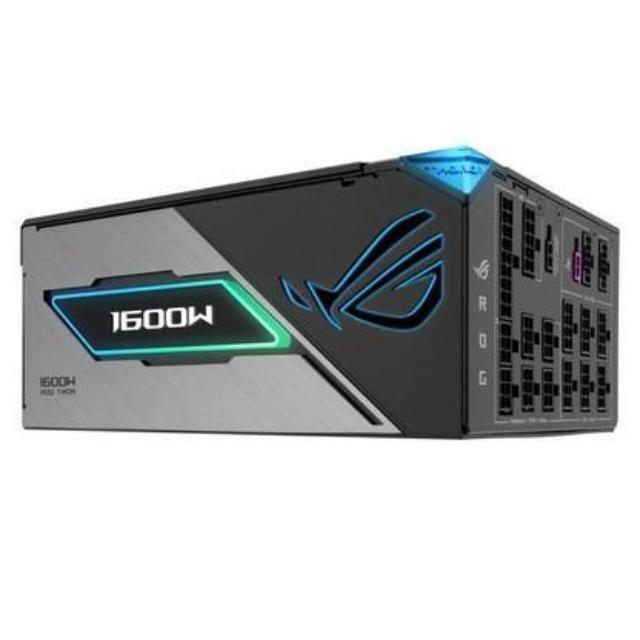PSU: (0, 124, 640, 482)
